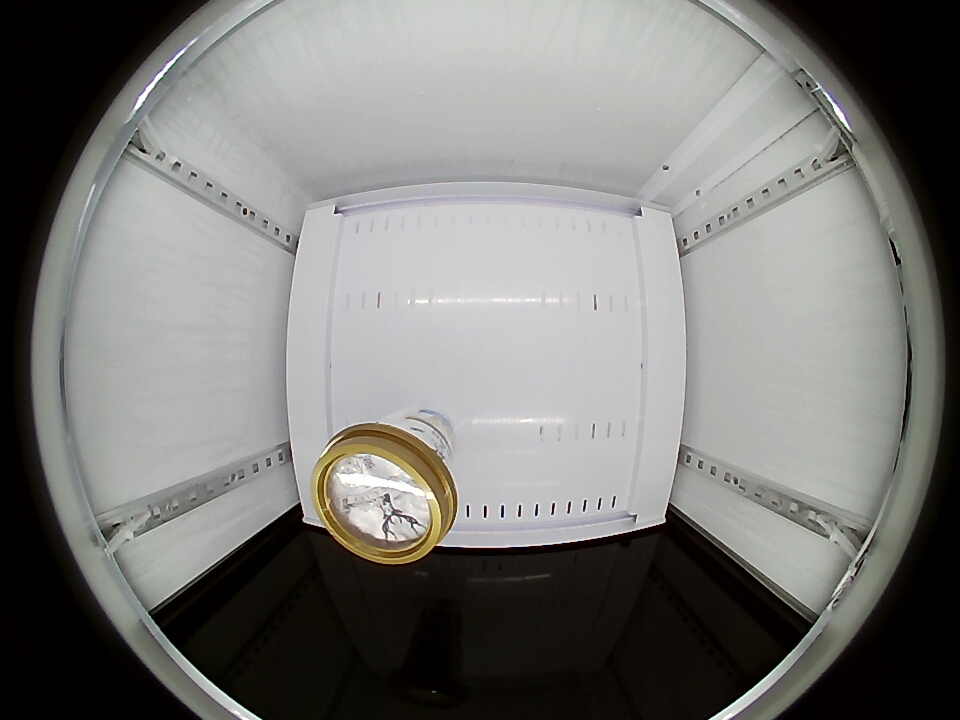lujiaoxiang: (310, 422, 457, 564)
